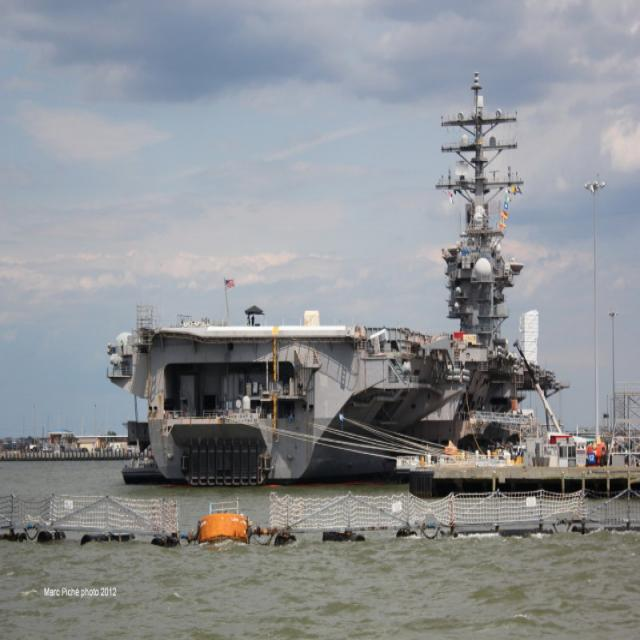Portanaves: (103, 65, 572, 498)
